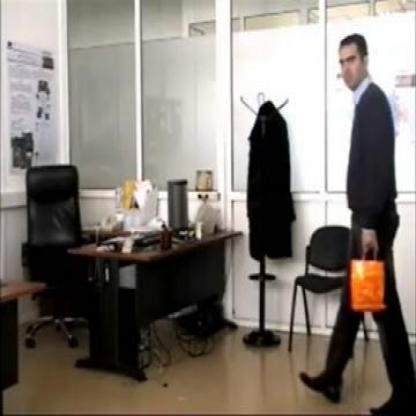other: (349, 250, 389, 310)
